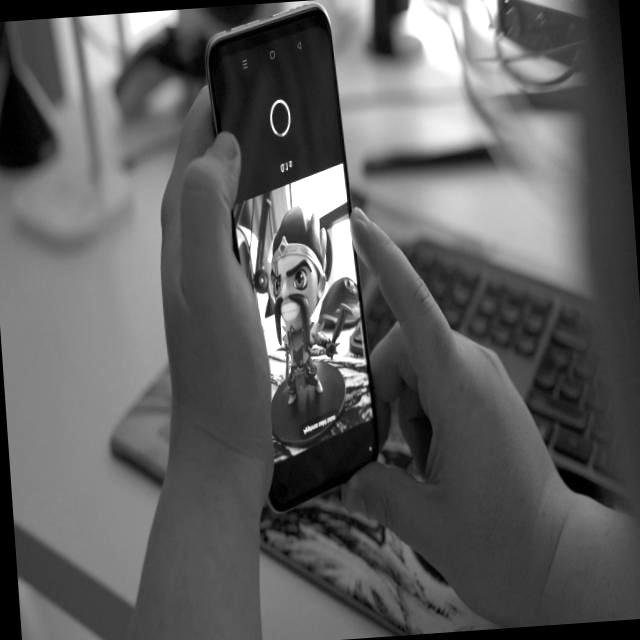phone: (200, 0, 383, 518)
